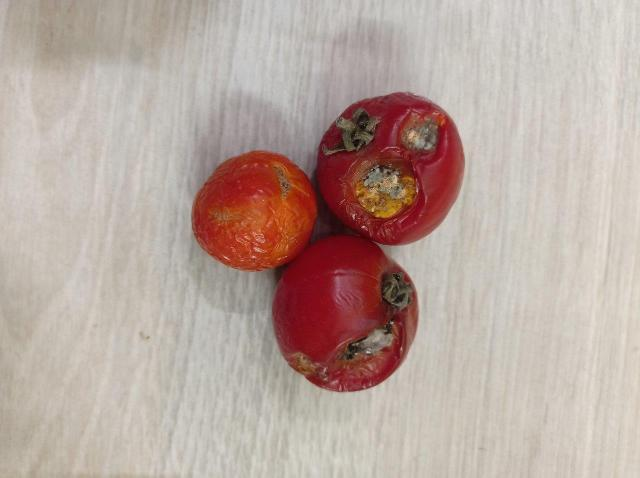defect: (270, 231, 424, 395), (316, 86, 469, 246), (187, 149, 323, 279)
